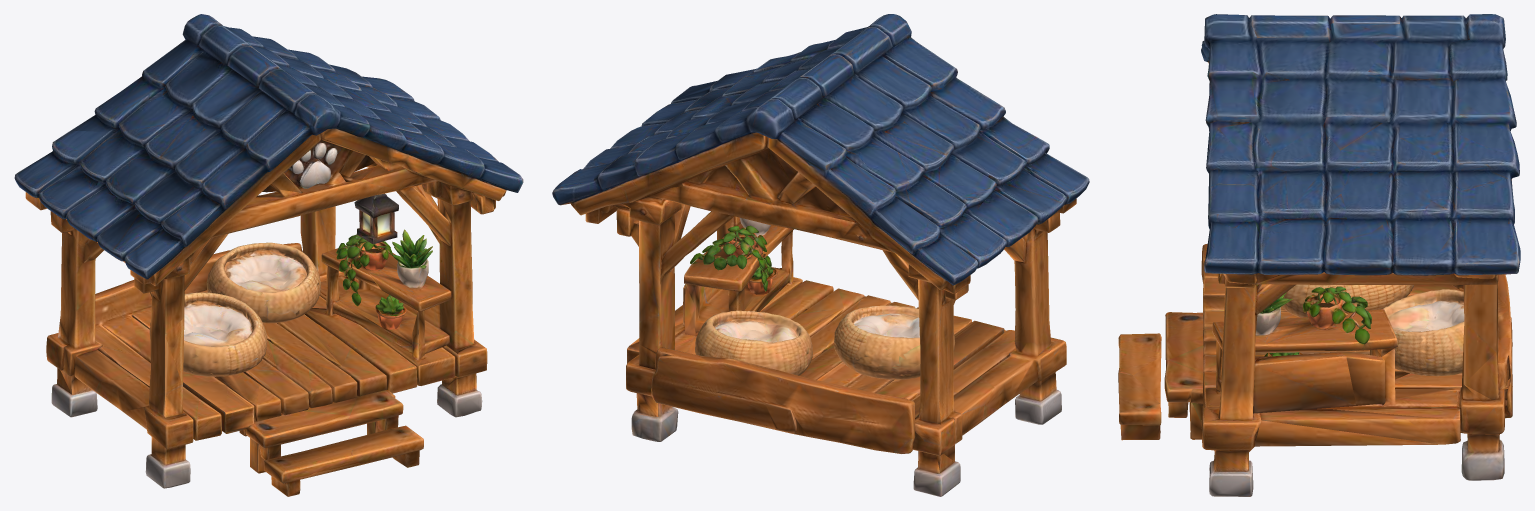
The model's file is cat_shelter_pavilion.glb.
3 renders of one model, left to right at view 1: azimuth 30°, elevation 25°; view 2: azimuth 150°, elevation 25°; view 3: azimuth 270°, elevation 25°, orthographic. The views are drawn at different scales.
Visible parts, largest first — view 1: cat_shelter_pavilion; view 2: cat_shelter_pavilion; view 3: cat_shelter_pavilion.
Boxes of the visible parts, x1=… form: cat_shelter_pavilion: x1=14, y1=14, x2=523, y2=496; cat_shelter_pavilion: x1=552, y1=14, x2=1089, y2=496; cat_shelter_pavilion: x1=1118, y1=14, x2=1520, y2=496.
Bounding box in the file's own units: 1.93 × 1.65 × 1.52.
Materials: 1 (1 with a texture image).
